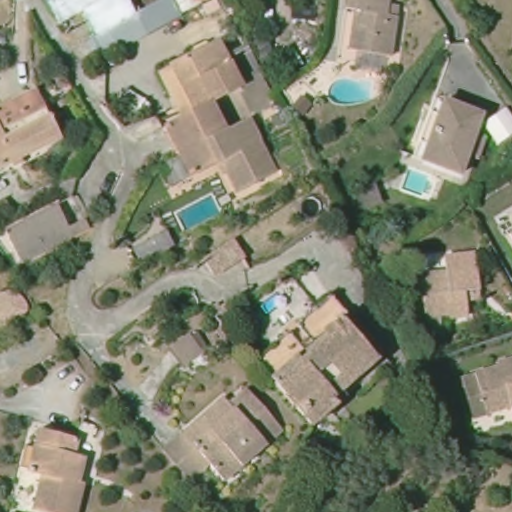pool: (169, 194, 227, 233), (323, 75, 379, 107), (401, 164, 439, 202), (256, 291, 288, 316)
